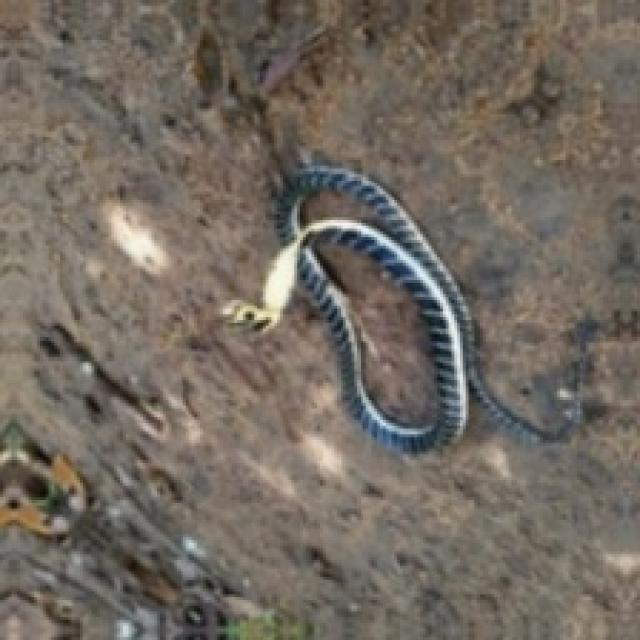king cobra: (223, 163, 574, 449)
